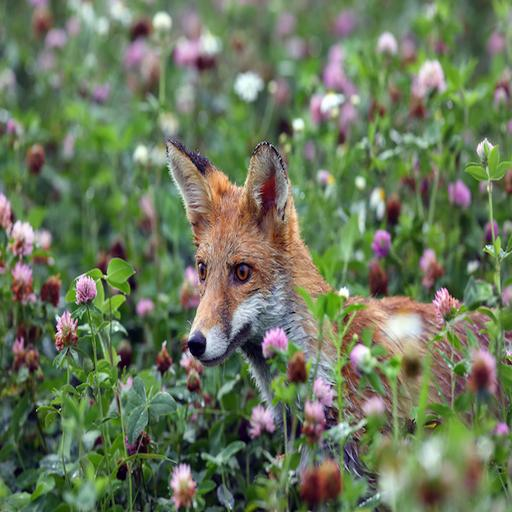Fox: (158, 139, 512, 445)
